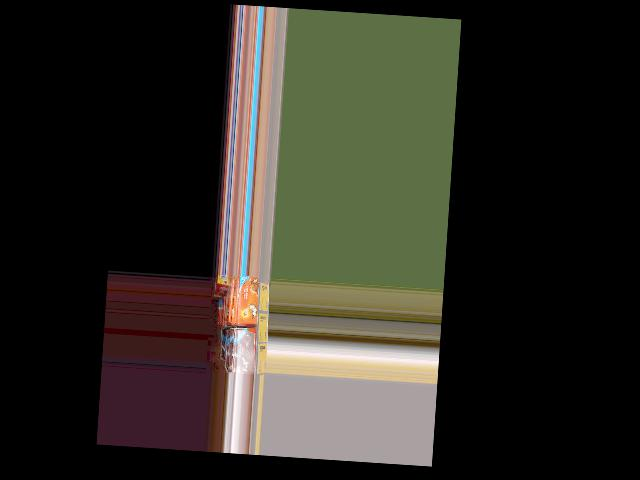chocolate: (232, 331, 261, 375)
